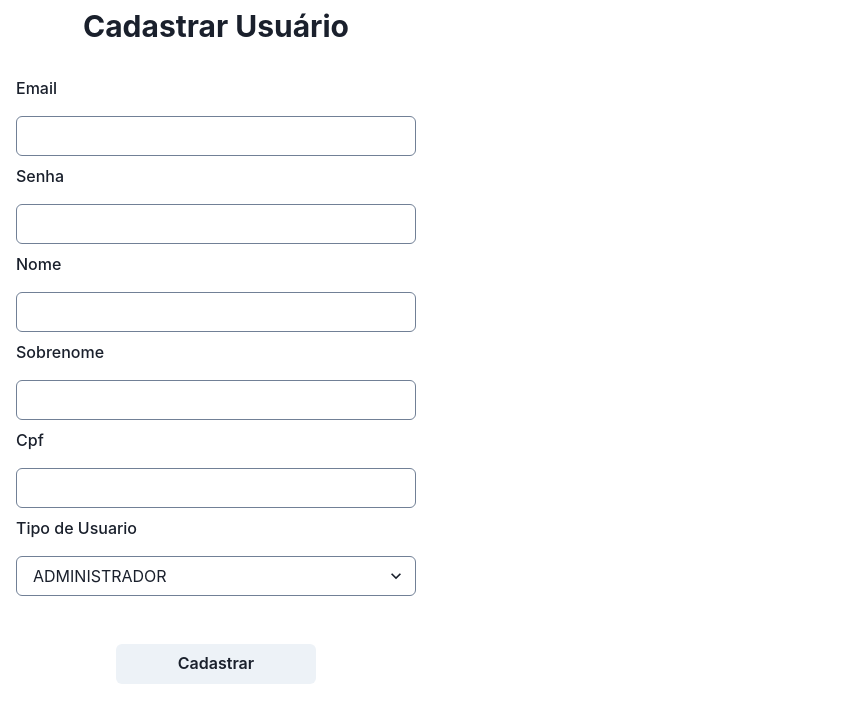
it: Testando página de cadastro › Deve falhar ao cadastrar usuário com email inválido
In the field with test id "input-email": (216, 136) x1=16 y1=116 x2=416 y2=156, type "emailInvalido"
In the password field with test id "input-senha": (216, 224) x1=16 y1=204 x2=416 y2=244, type "senha123"
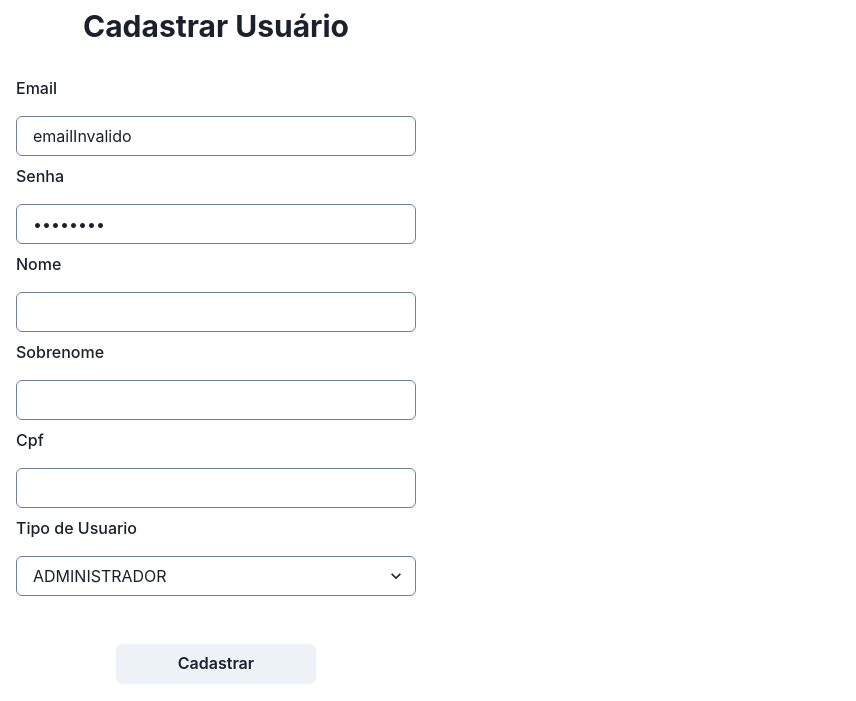
In the field with test id "input-nome": (216, 312) x1=16 y1=292 x2=416 y2=332, type "João"
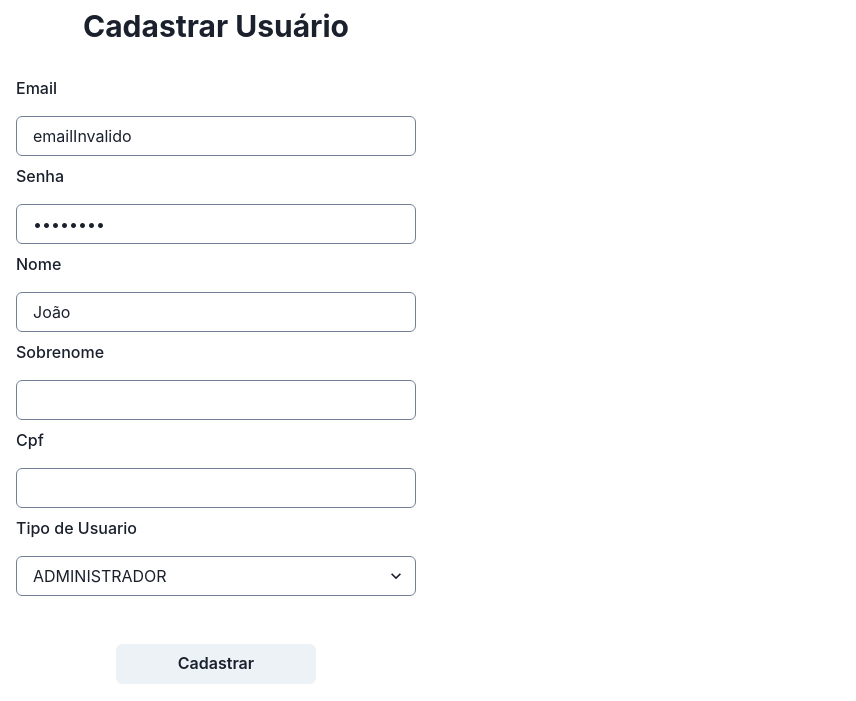
In the field with test id "input-sobrenome": (216, 400) x1=16 y1=380 x2=416 y2=420, type "Silva"
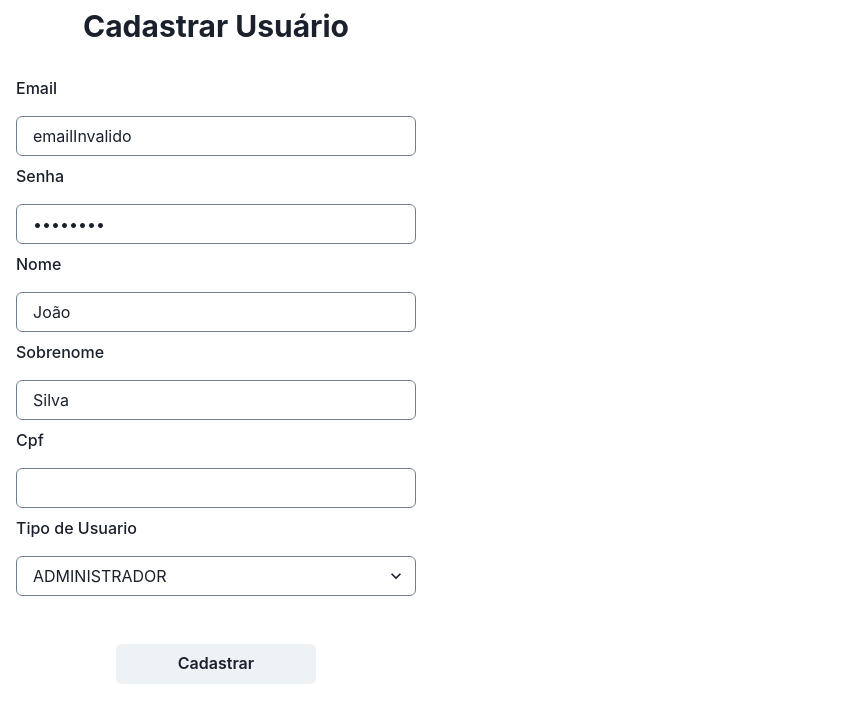
In the field with test id "input-cpf": (216, 488) x1=16 y1=468 x2=416 y2=508, type "12345678900"
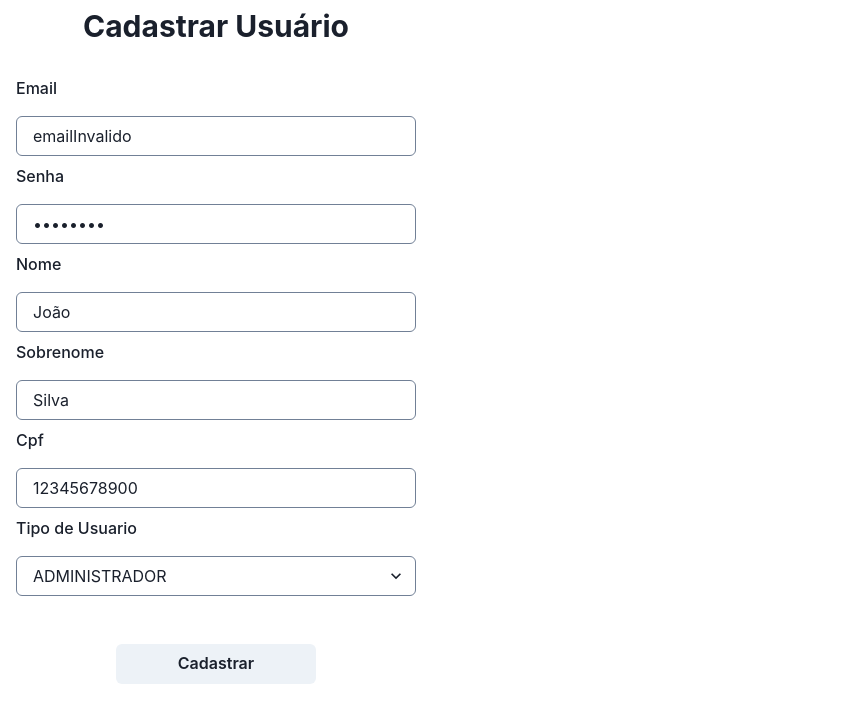
Select "USUARIO" in the dropdown with test id "input-tipoDeUsuario": (216, 576) x1=16 y1=556 x2=416 y2=596
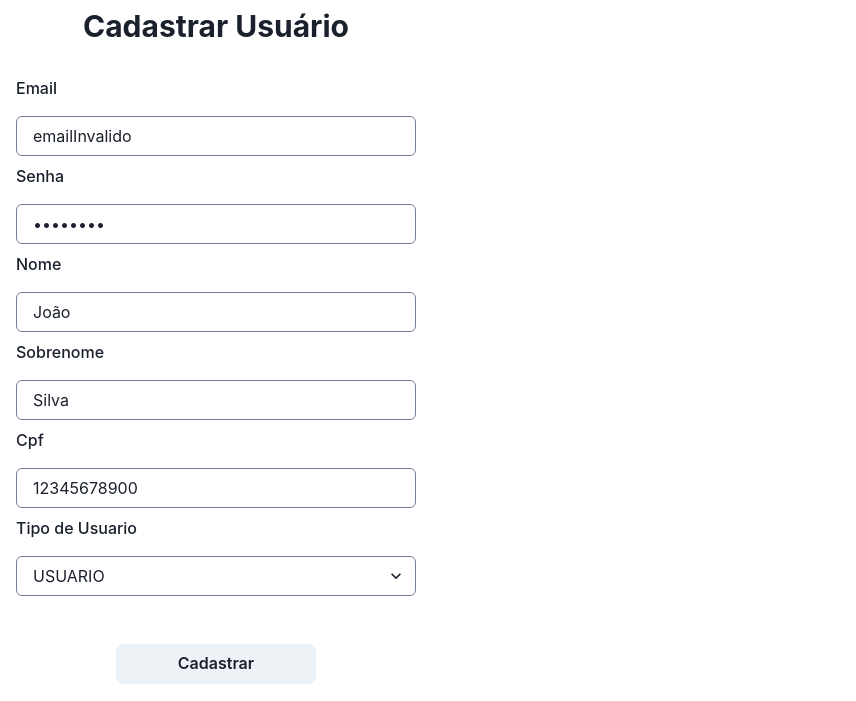
Click the button with test id "botao-criarUsuario": (216, 664) x1=116 y1=644 x2=316 y2=684
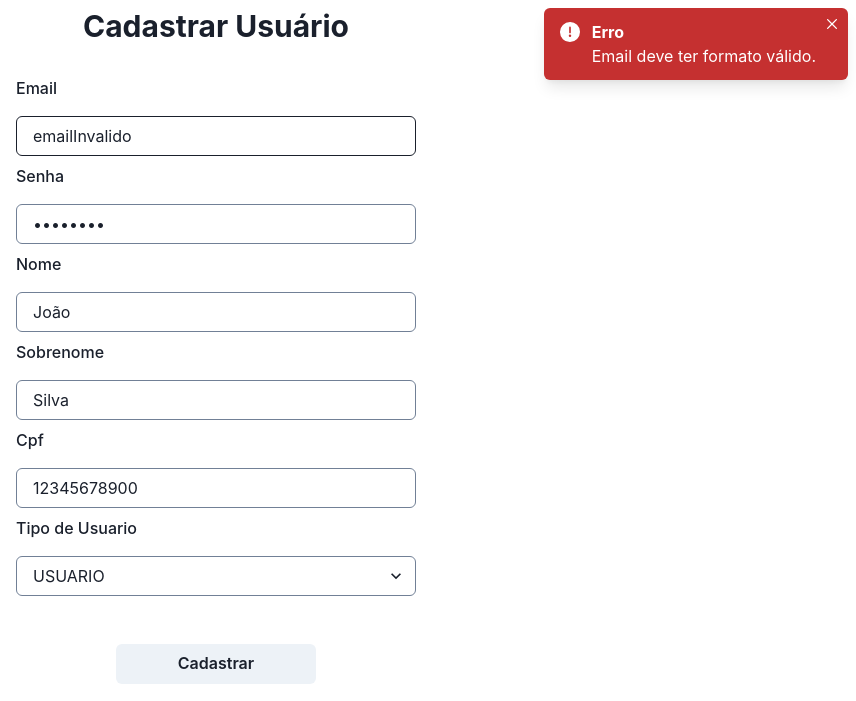
Check: the text "Email deve ter formato válido." is shown, box x1=592 y1=44 x2=816 y2=68
